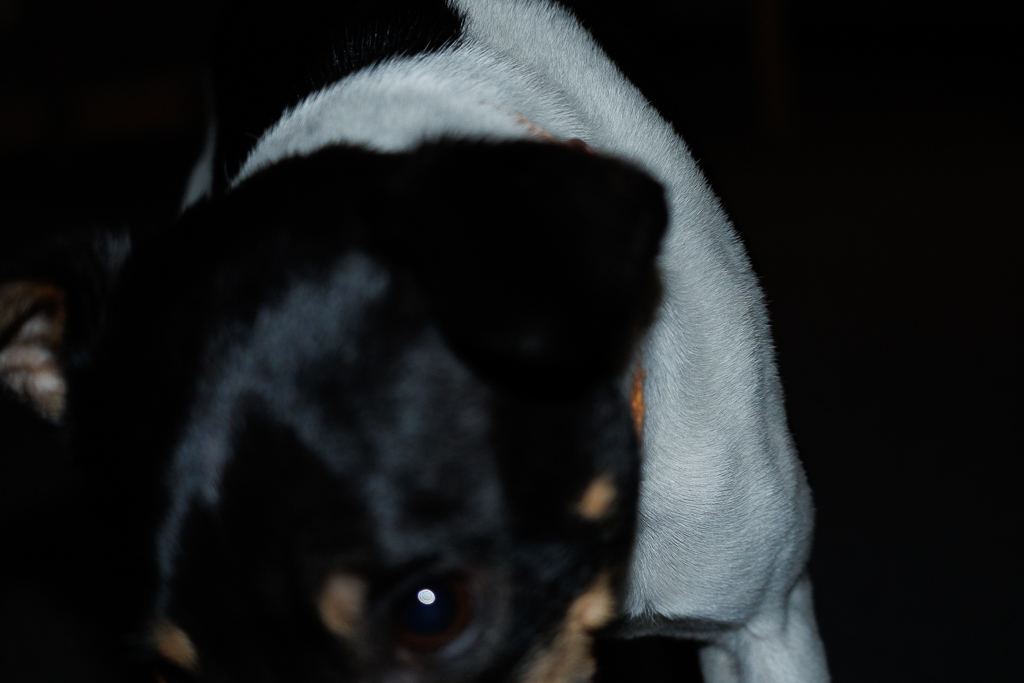Dog: (0, 0, 843, 683)
